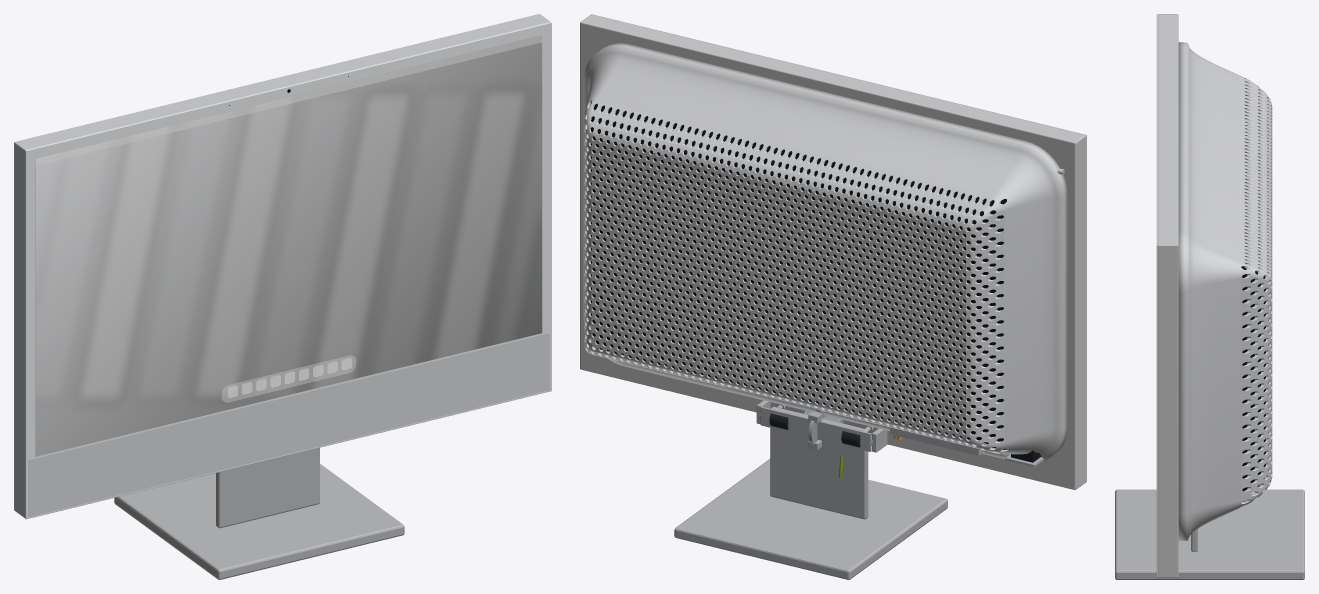
File: imac_pc.v006__2026-11-06_09ad133.glb
The picture shows the model from 3 angles, left to right: view 1: azimuth 30°, elevation 25°; view 2: azimuth 150°, elevation 25°; view 3: azimuth 270°, elevation 25°; orthographic projection. The views are drawn at different scales.
Visible parts, largest first — view 1: display, chin_print, stand_foot, front_glass, slab, stand_arm; view 2: cover_back, cover_filter, slab, stand_foot, stand_arm, hinge_cover, front_glass, io_shield; view 3: cover_back, stand_foot, slab, front_glass, cover_filter.
Part boxes in pixels (box(x1,y1,x2,y2)): display: box(35, 35, 542, 456); chin_print: box(28, 333, 549, 517); stand_foot: box(114, 464, 404, 579); front_glass: box(25, 22, 551, 519); slab: box(14, 14, 550, 518); stand_arm: box(216, 447, 319, 528); cover_back: box(583, 43, 1067, 461); cover_filter: box(591, 101, 1007, 449); slab: box(580, 14, 1086, 489); stand_foot: box(674, 459, 947, 579); stand_arm: box(770, 406, 868, 519); hinge_cover: box(760, 406, 871, 451); front_glass: box(591, 14, 1086, 482); io_shield: box(890, 420, 988, 455); cover_back: box(1178, 42, 1272, 541); stand_foot: box(1115, 489, 1304, 579); slab: box(1157, 14, 1178, 577); front_glass: box(1156, 14, 1157, 577); cover_filter: box(1241, 266, 1265, 491).
Size of the model in its own units: 620 by 515 by 215.
Materials: 65 (4 with a texture image).
